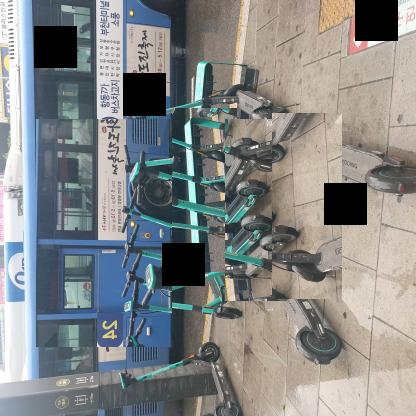kickboard: (185, 121, 293, 416), (36, 119, 172, 347), (272, 113, 342, 299), (225, 119, 287, 301), (130, 112, 201, 270), (172, 108, 237, 272), (88, 111, 159, 235)
